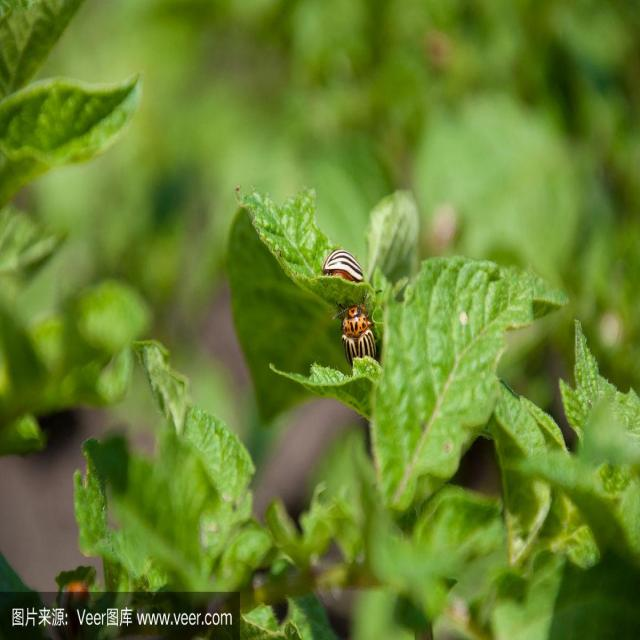ShuCaiHuaBanChong-Grown-: (336, 295, 393, 396), (320, 234, 379, 307)
